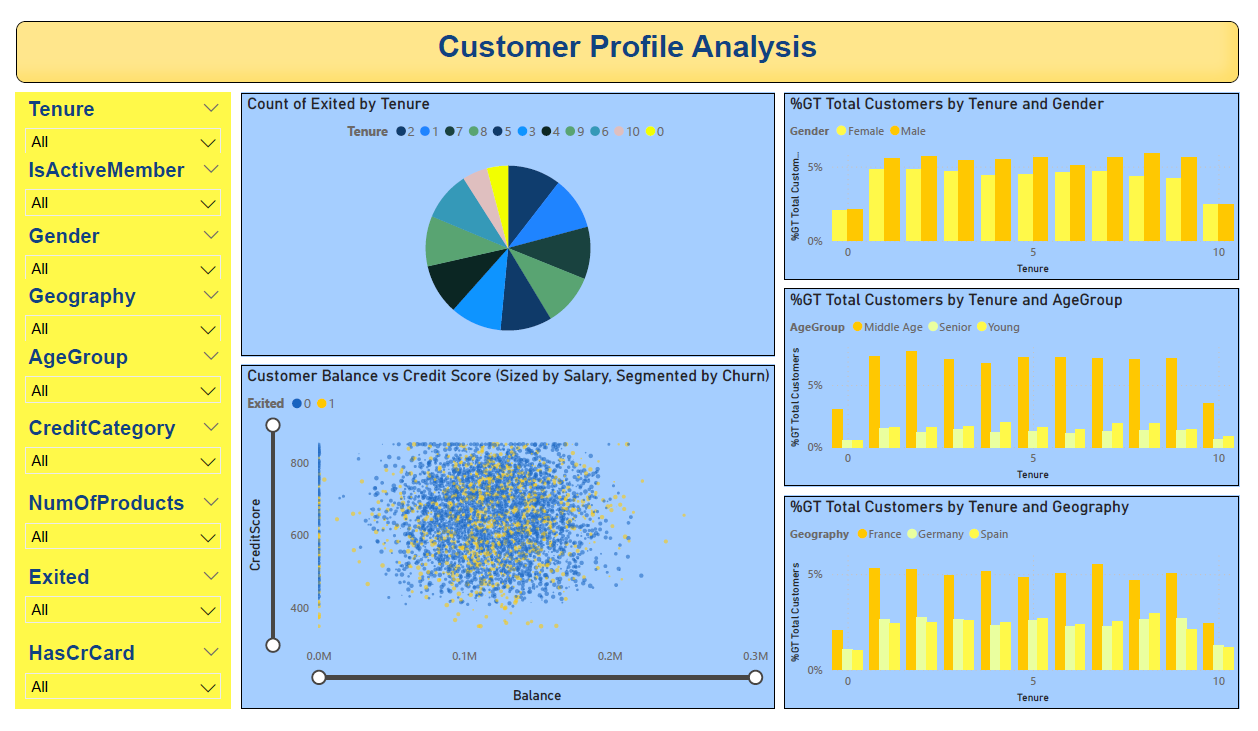

This screenshot's page, from the dashboard's own definition file:
{"tool":"powerbi","page":{"name":"CustomerProfileAnalysis","canvas":[1280,720],"ordinal":1},"visuals":[{"type":"scatterChart","title":"Customer Balance vs Credit Score (Sized by Salary, Segmented by Churn)","fields":{"X":["bank_churn_stg.Balance"],"Y":["bank_churn_stg.CreditScore"],"Series":["bank_churn_stg.Exited"],"Size":["Avg(bank_churn_stg.EstimatedSalary)"]},"box":[235.6,359.5,558.3,360.7],"z":0},{"type":"textbox","box":[0,0,1279.8,65],"z":1000},{"type":"clusteredColumnChart","fields":{"Category":["bank_churn_stg.Tenure"],"Series":["bank_churn_stg.Gender"],"Y":["Measures_Table.Total Customers"]},"box":[803.7,74.8,476.1,196.3],"z":2000},{"type":"clusteredColumnChart","fields":{"Y":["Measures_Table.Total Customers"],"Category":["bank_churn_stg.Tenure"],"Series":["bank_churn_stg.Geography"]},"box":[803.7,496.9,476.1,223.3],"z":3000},{"type":"pieChart","fields":{"Category":["bank_churn_stg.Tenure"],"Y":["CountNonNull(bank_churn_stg.Exited)"]},"box":[235.6,74.8,558.3,276.1],"z":4000},{"type":"clusteredColumnChart","fields":{"Category":["bank_churn_stg.Tenure"],"Series":["bank_churn_stg.AgeGroup"],"Y":["Measures_Table.Total Customers"]},"box":[803.7,279.8,476.1,207.4],"z":5000},{"type":"slicer","fields":{"Values":["bank_churn_stg.Tenure"]},"box":[0,75,225,63.8],"z":6000},{"type":"slicer","fields":{"Values":["bank_churn_stg.IsActiveMember"]},"box":[0,138.8,225,68.8],"z":7000},{"type":"slicer","fields":{"Values":["bank_churn_stg.Gender"]},"box":[0,207.5,225,63.8],"z":8000},{"type":"slicer","fields":{"Values":["bank_churn_stg.Geography"]},"box":[0,271.2,225,63.8],"z":9000},{"type":"slicer","fields":{"Values":["bank_churn_stg.AgeGroup"]},"box":[0,335,225,73.8],"z":10000},{"type":"slicer","fields":{"Values":["bank_churn_stg.CreditCategory"]},"box":[0,408.8,225,78.8],"z":11000},{"type":"slicer","fields":{"Values":["bank_churn_stg.NumOfProducts"]},"box":[0,487.5,225,76.2],"z":12000},{"type":"slicer","fields":{"Values":["bank_churn_stg.Exited"]},"box":[0,565,225,80],"z":13000},{"type":"slicer","fields":{"Values":["bank_churn_stg.HasCrCard"]},"box":[0,645,225,75],"z":14000}]}

Visuals, with their boxes on the page's 1280x720 design canvas (x1, y1, x2, y2). These are canvas units, not pixel positions in the 1258x731 screenshot, which may show the page scaled, cropped or inside an application window:
"Customer Balance vs Credit Score (Sized by Salary, Segmented by Churn)" scatterChart: {"x1": 236, "y1": 360, "x2": 794, "y2": 720}
textbox: {"x1": 0, "y1": 0, "x2": 1280, "y2": 65}
clusteredColumnChart - bank_churn_stg.Tenure x bank_churn_stg.Gender: {"x1": 804, "y1": 75, "x2": 1280, "y2": 271}
clusteredColumnChart - Measures_Table.Total Customers x bank_churn_stg.Tenure: {"x1": 804, "y1": 497, "x2": 1280, "y2": 720}
pieChart - bank_churn_stg.Tenure x CountNonNull(bank_churn_stg.Exited): {"x1": 236, "y1": 75, "x2": 794, "y2": 351}
clusteredColumnChart - bank_churn_stg.Tenure x bank_churn_stg.AgeGroup: {"x1": 804, "y1": 280, "x2": 1280, "y2": 487}
slicer - bank_churn_stg.Tenure: {"x1": 0, "y1": 75, "x2": 225, "y2": 139}
slicer - bank_churn_stg.IsActiveMember: {"x1": 0, "y1": 139, "x2": 225, "y2": 208}
slicer - bank_churn_stg.Gender: {"x1": 0, "y1": 208, "x2": 225, "y2": 271}
slicer - bank_churn_stg.Geography: {"x1": 0, "y1": 271, "x2": 225, "y2": 335}
slicer - bank_churn_stg.AgeGroup: {"x1": 0, "y1": 335, "x2": 225, "y2": 409}
slicer - bank_churn_stg.CreditCategory: {"x1": 0, "y1": 409, "x2": 225, "y2": 488}
slicer - bank_churn_stg.NumOfProducts: {"x1": 0, "y1": 488, "x2": 225, "y2": 564}
slicer - bank_churn_stg.Exited: {"x1": 0, "y1": 565, "x2": 225, "y2": 645}
slicer - bank_churn_stg.HasCrCard: {"x1": 0, "y1": 645, "x2": 225, "y2": 720}
